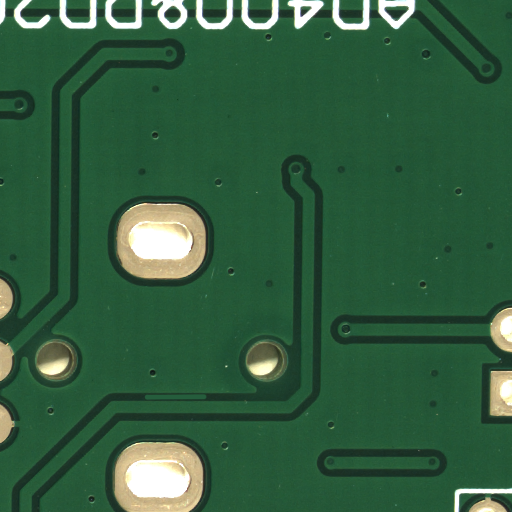Spurious_copper: (176, 397, 241, 404)
